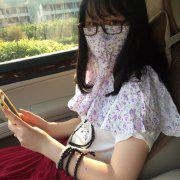OK: (85, 16, 133, 64)
